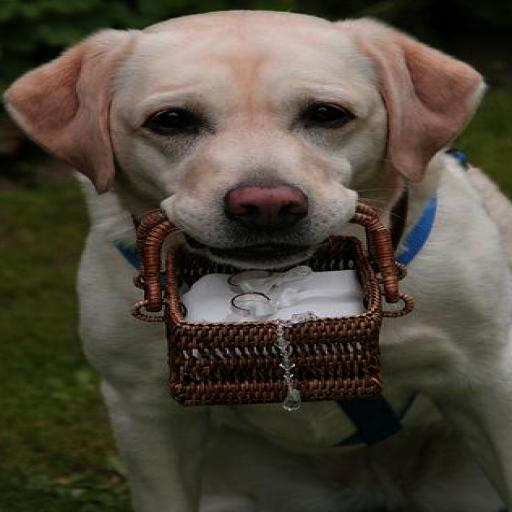dog_face: (36, 10, 461, 252)
